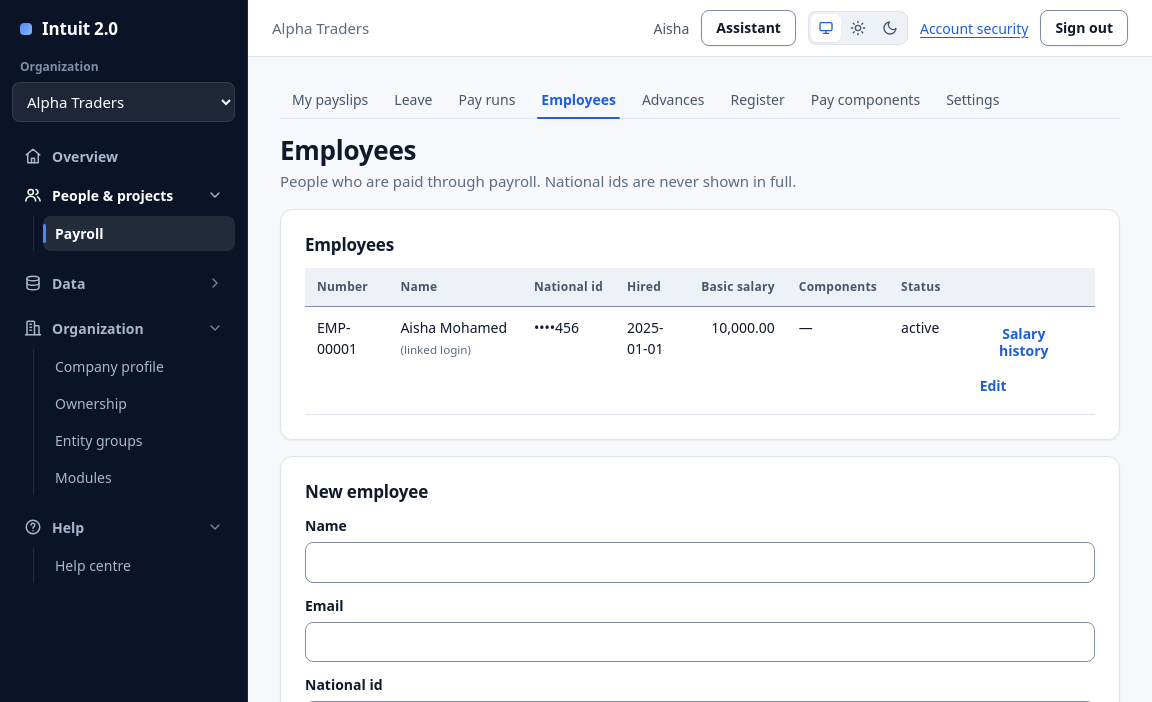
salary history and payslip announcements › shows the dated salary history of an employee
The width and height of the screenshot is (1152, 702).
Click the button with aria-label "Salary history for Aisha Mohamed" at (1024, 343), box [965,317,1083,368]
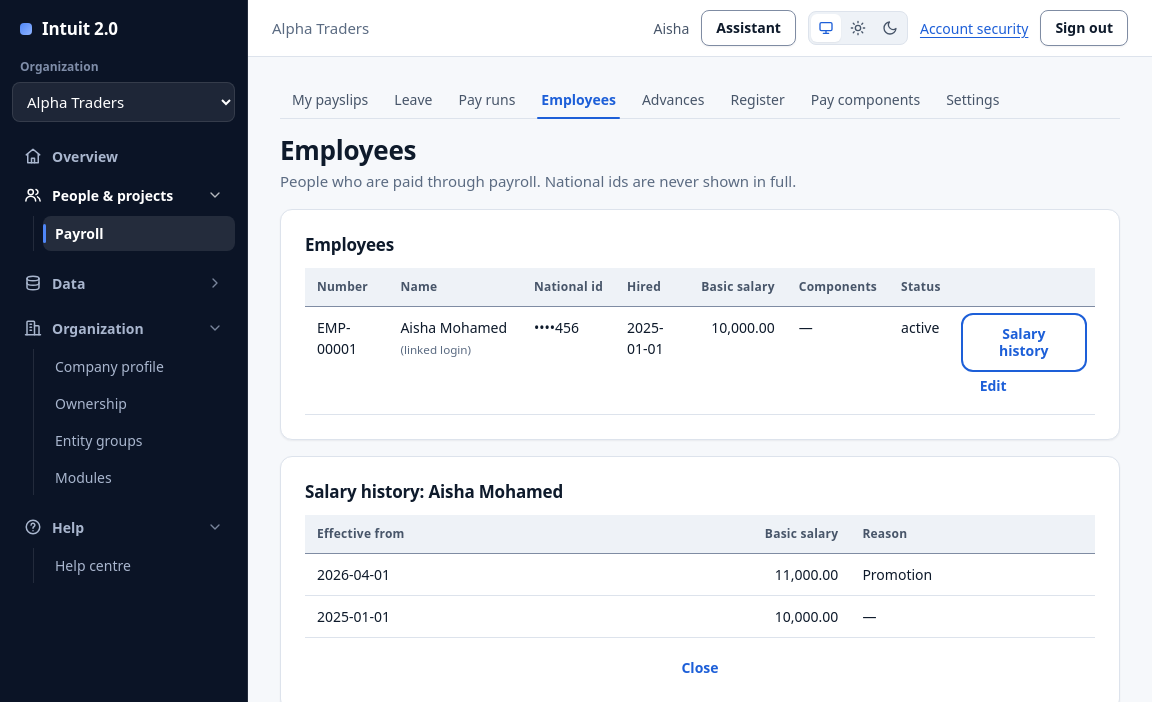
Expected: the text "Promotion" is shown, [850,554,1095,596]
Expected: the text "2026-04-01" is shown, [305,554,596,596]
